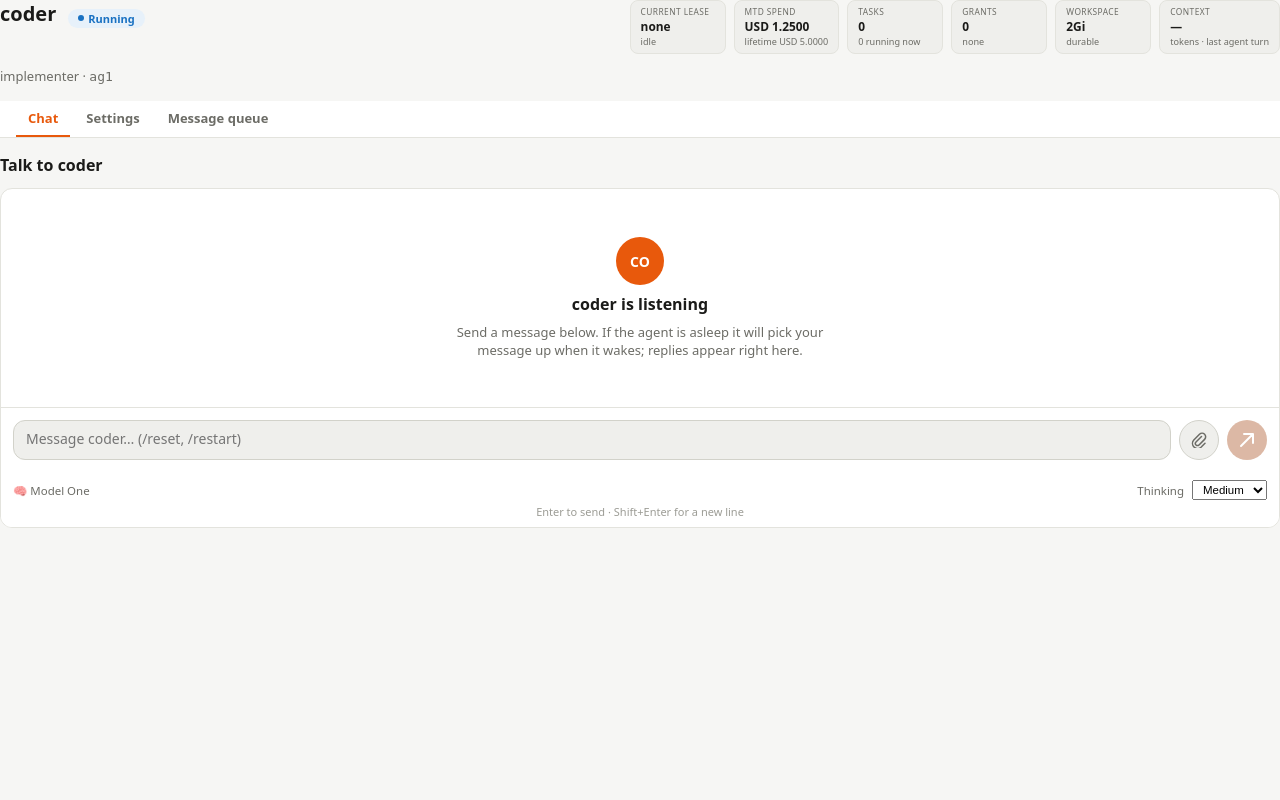
restart flow › confirms and posts the restart, showing the eviction note
Type "/restart" into the text box with placeholder "Message coder… (/reset, /restart)" at (592, 440), box [13,420,1171,460]
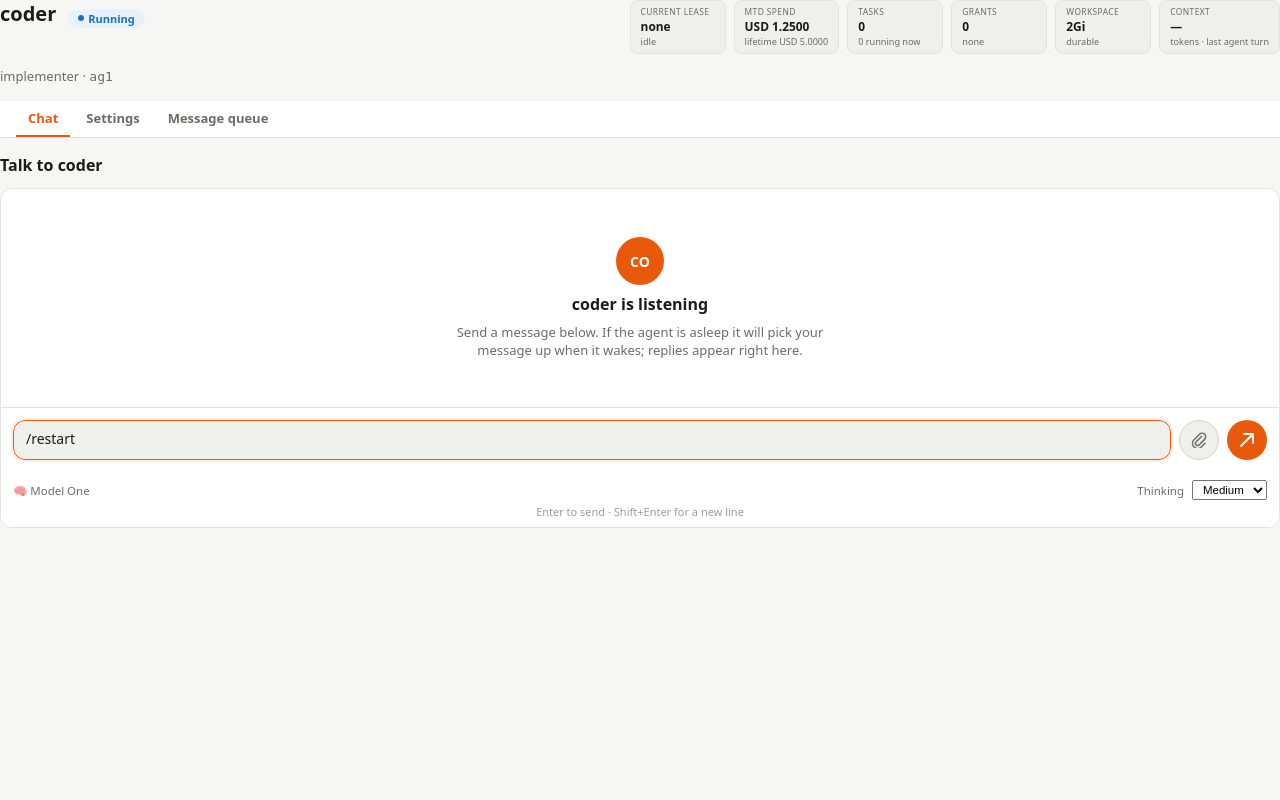
Press Enter
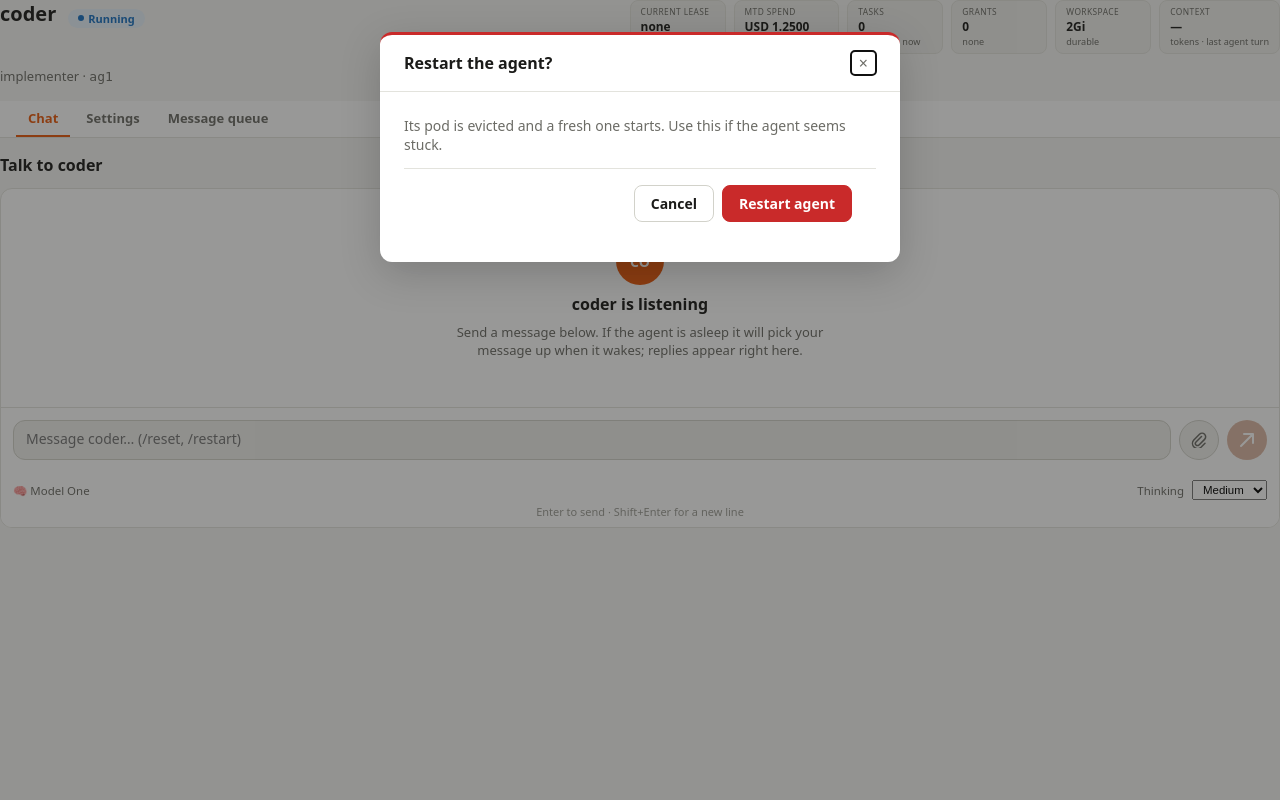
Click the button "Restart agent" at (787, 204), box [722,185,852,222]
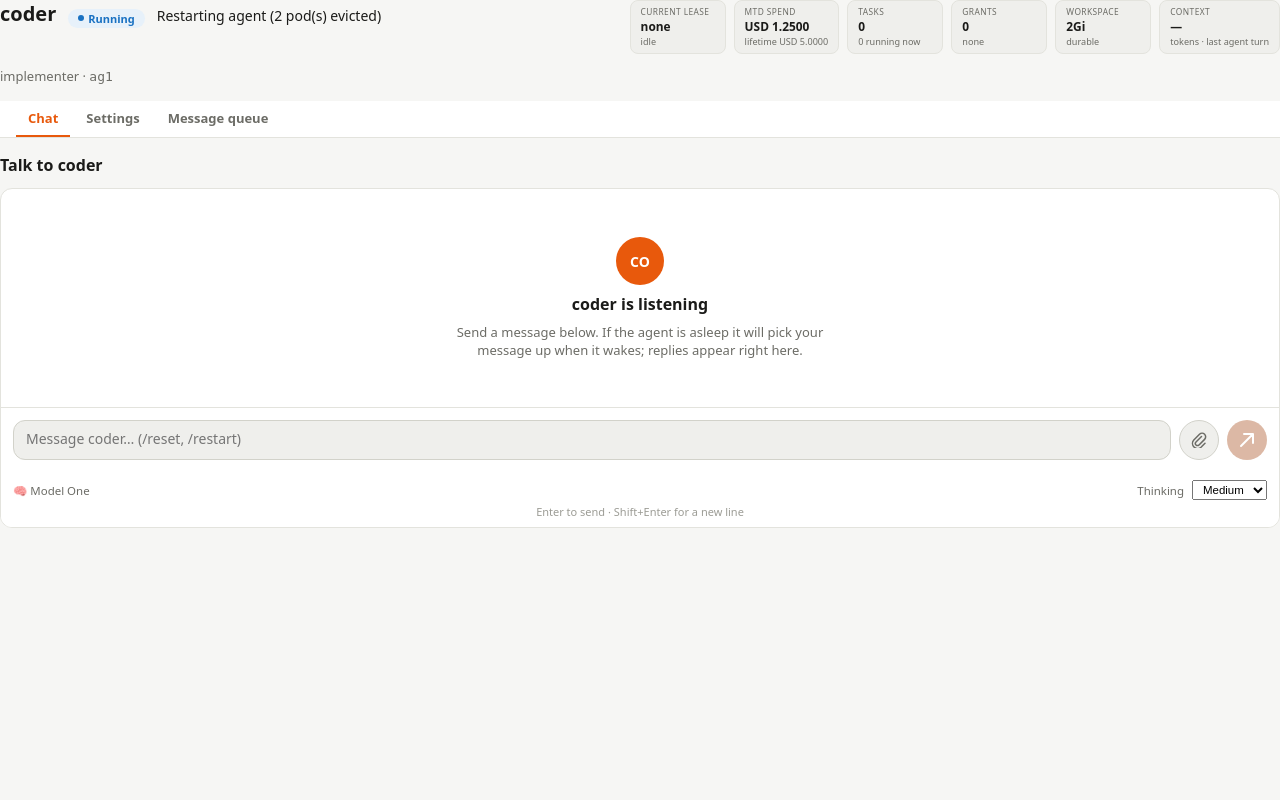
Check: the text "Restarting agent (2 pod(s) evicted)" is shown, box [157,6,381,25]
